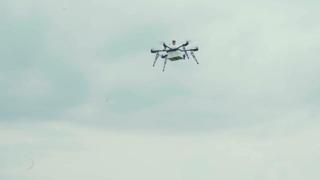UAV: (151, 40, 199, 72)
